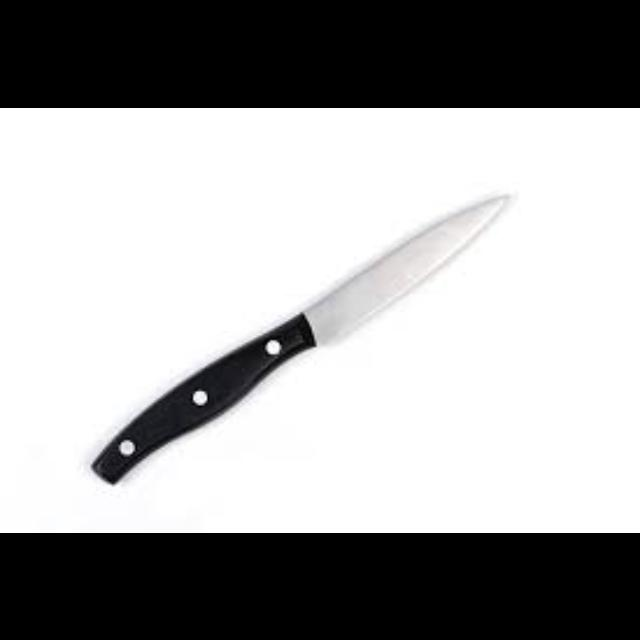knife: (89, 188, 512, 484)
